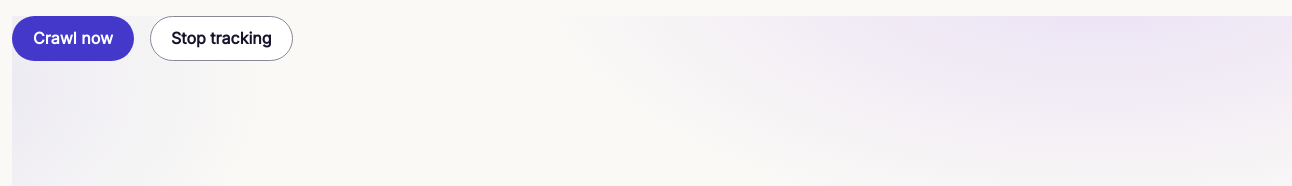
Scenario: CompanyActions › lets an admin crawl a tracked company now, saying what happens next
Step 1. Click the button named "Crawl Monzo now" → point(73, 39), box [12,16,134,61]
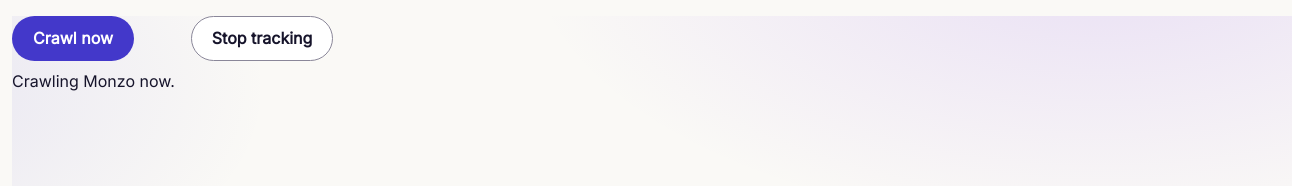
Expected: the message reads "Crawling Monzo now.", [12,71,175,91]
